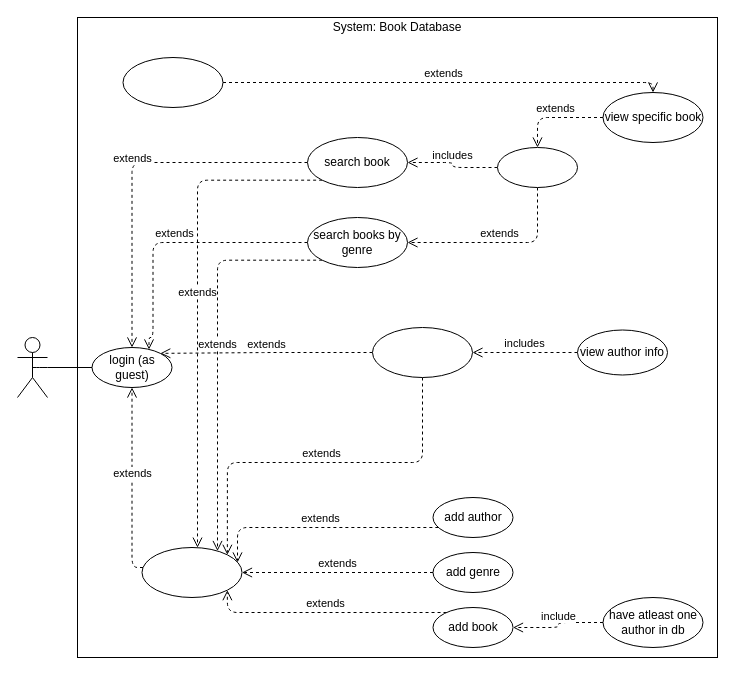
This 735x675 diagram has some shape labels left out. Here are the shapes that lost their labels. From the top down, the box of each, then its label:
(122, 56, 223, 108): view number of books viewed
(496, 146, 578, 188): view booklist
(16, 336, 48, 398): User
(372, 326, 472, 378): search author
(141, 546, 242, 598): login as admin
